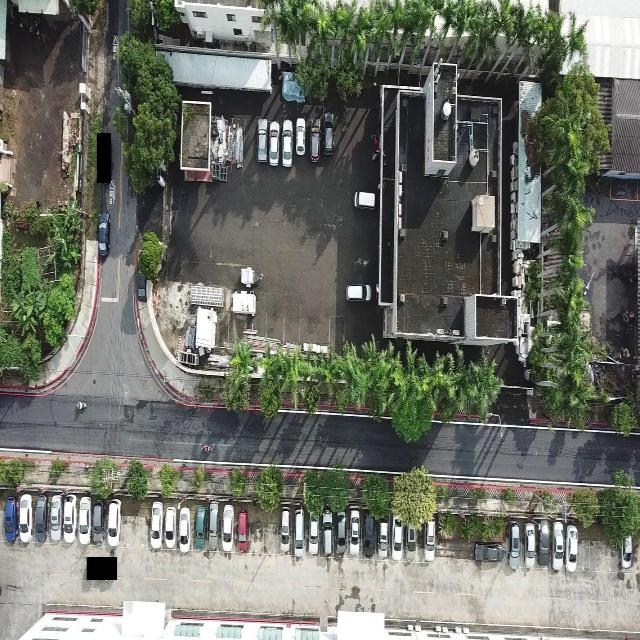bike: (74, 399, 88, 410), (201, 444, 213, 456)
car: (106, 499, 123, 548), (20, 493, 35, 547), (76, 496, 92, 546), (267, 118, 283, 167), (148, 502, 163, 553), (3, 496, 18, 546), (535, 520, 550, 570), (472, 540, 504, 563), (48, 494, 62, 546), (220, 503, 234, 553), (63, 494, 76, 547), (509, 521, 523, 570), (281, 118, 295, 167), (36, 494, 49, 546), (208, 503, 221, 554), (554, 521, 567, 571), (98, 209, 111, 258), (292, 507, 304, 559), (164, 508, 177, 556), (237, 508, 251, 552), (423, 517, 437, 561), (362, 512, 376, 556), (256, 115, 268, 166), (566, 525, 579, 572), (392, 514, 405, 560), (309, 510, 322, 556), (196, 506, 209, 552), (322, 508, 334, 557), (322, 111, 335, 156), (280, 507, 292, 555), (93, 499, 105, 547), (179, 506, 191, 553), (345, 282, 372, 302), (525, 522, 536, 570), (294, 117, 307, 157), (349, 508, 361, 550), (379, 517, 391, 559), (622, 532, 634, 571), (352, 192, 376, 210), (339, 509, 348, 557), (408, 517, 417, 560), (310, 129, 322, 161)
